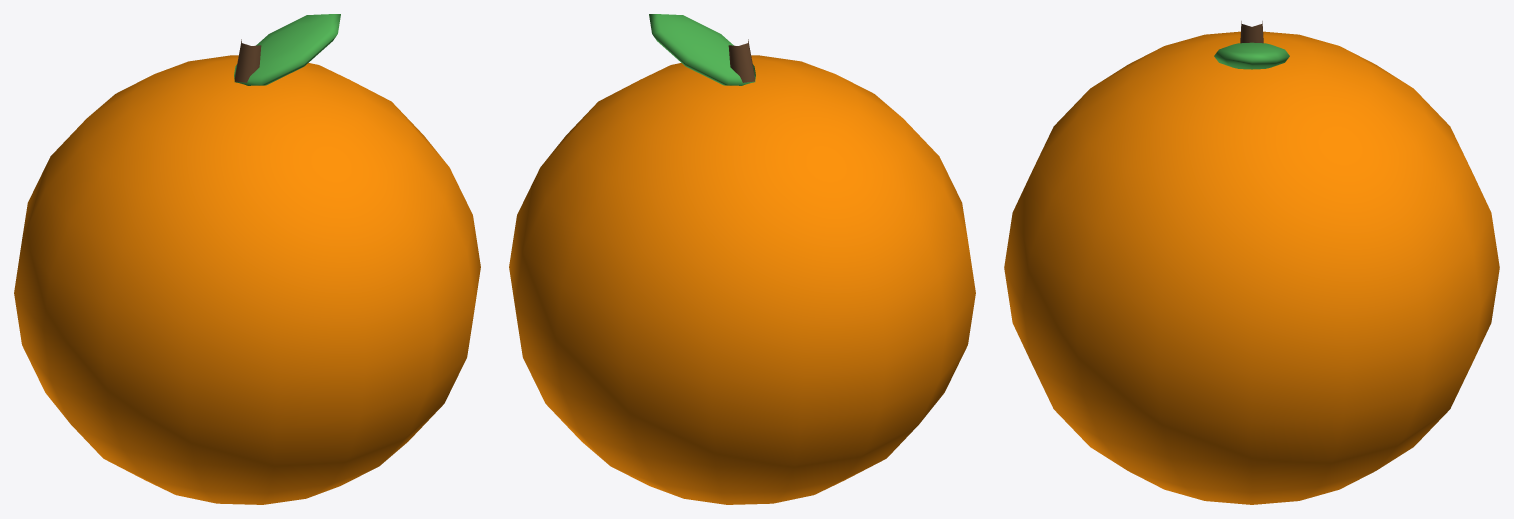
File: orange.glb
3 views of the same model, side by side, from view 1: azimuth 30°, elevation 25°; view 2: azimuth 150°, elevation 25°; view 3: azimuth 270°, elevation 25° (orthographic). The views are drawn at different scales.
Parts seen in each view (by area): view 1: match/orange; view 2: match/orange; view 3: match/orange.
Boxes of the visible parts, bbox=[...] form: match/orange: bbox=[14, 14, 480, 504]; match/orange: bbox=[509, 14, 975, 504]; match/orange: bbox=[1004, 21, 1499, 504].
Size of the model in its own units: 0.9523 by 1 by 0.9523.
